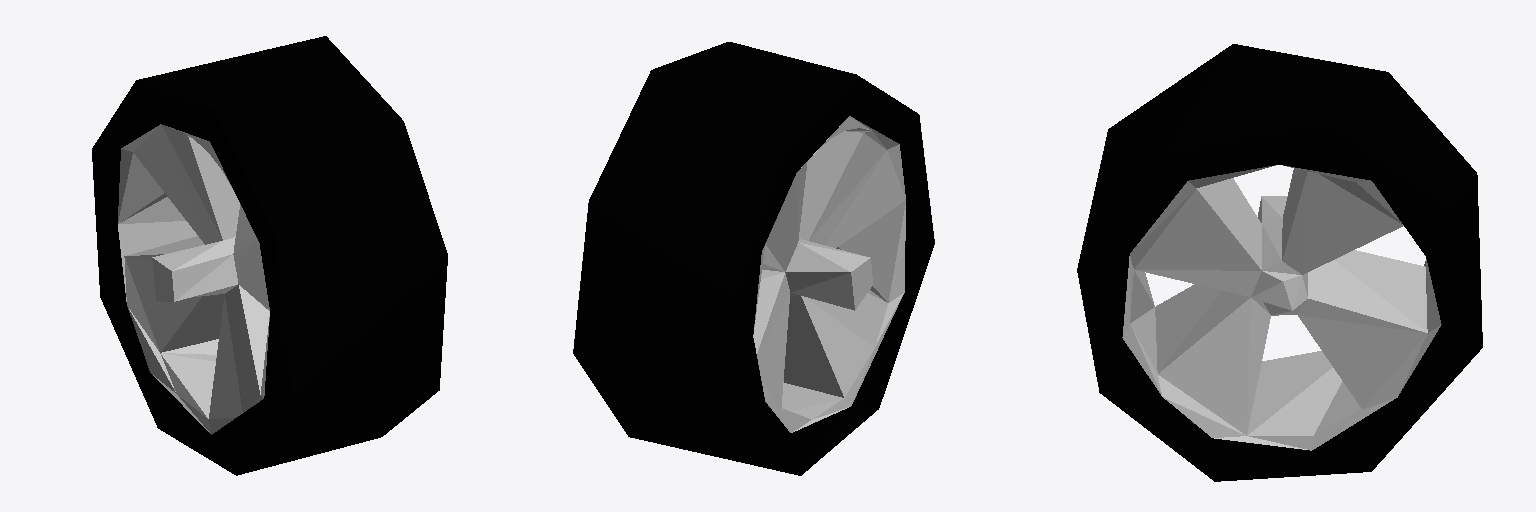
Rendered from wheel_hotrod_1.obj.
The picture shows the model from 3 angles: view 1: azimuth 30°, elevation 25°; view 2: azimuth 150°, elevation 25°; view 3: azimuth 270°, elevation 25°; orthographic projection.
Parts seen in each view (by area): view 1: wheel_3; view 2: wheel_3; view 3: wheel_3.
Part boxes in pixels (left/top/right/bottom): wheel_3: left=92, top=36, right=447, bottom=475; wheel_3: left=573, top=42, right=934, bottom=475; wheel_3: left=1077, top=44, right=1482, bottom=481.
Size of the model in its own units: 0.6607 by 1.22 by 1.24.